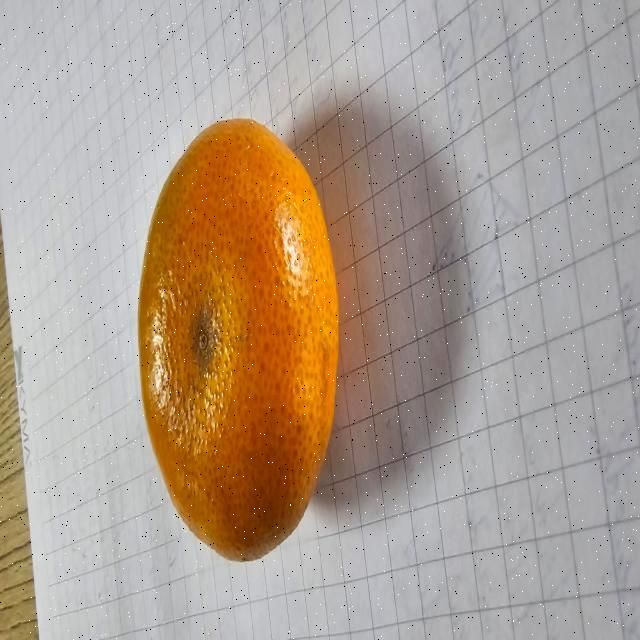Jeruk Mandarin: (134, 110, 344, 564)
